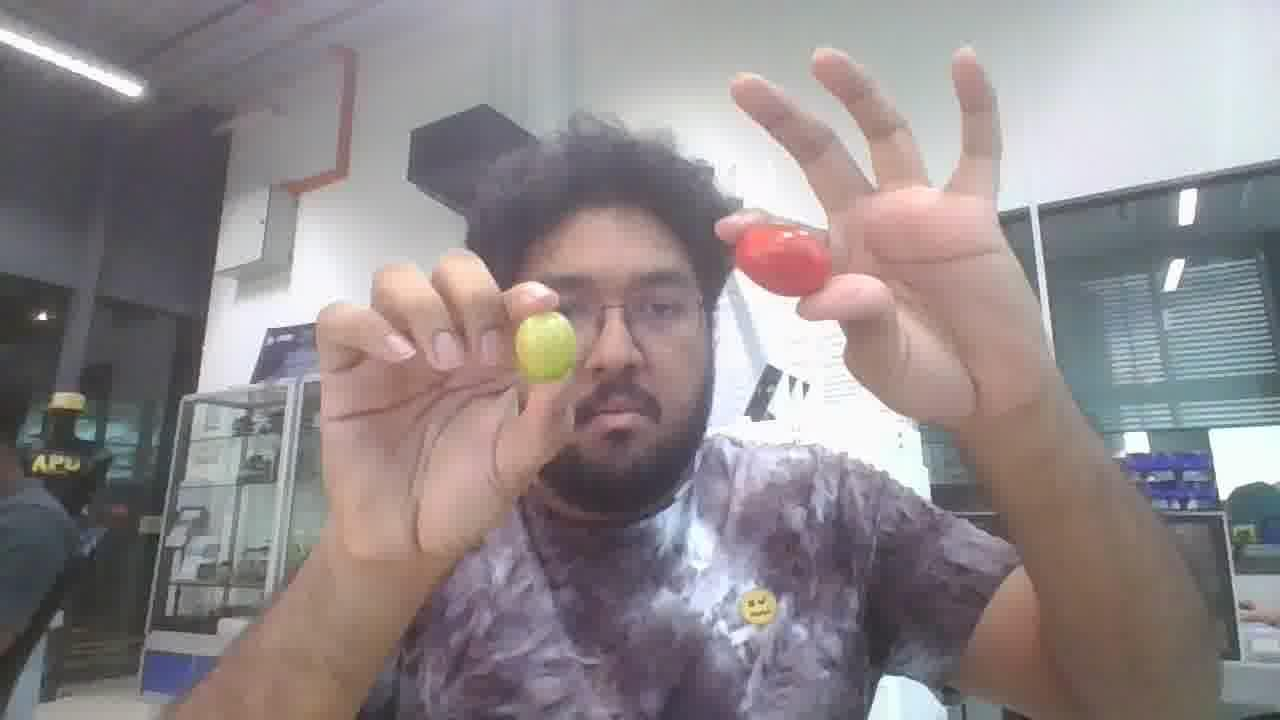green_cherry_tomato: (515, 312, 575, 382)
red_cherry_tomato: (733, 223, 831, 297)
